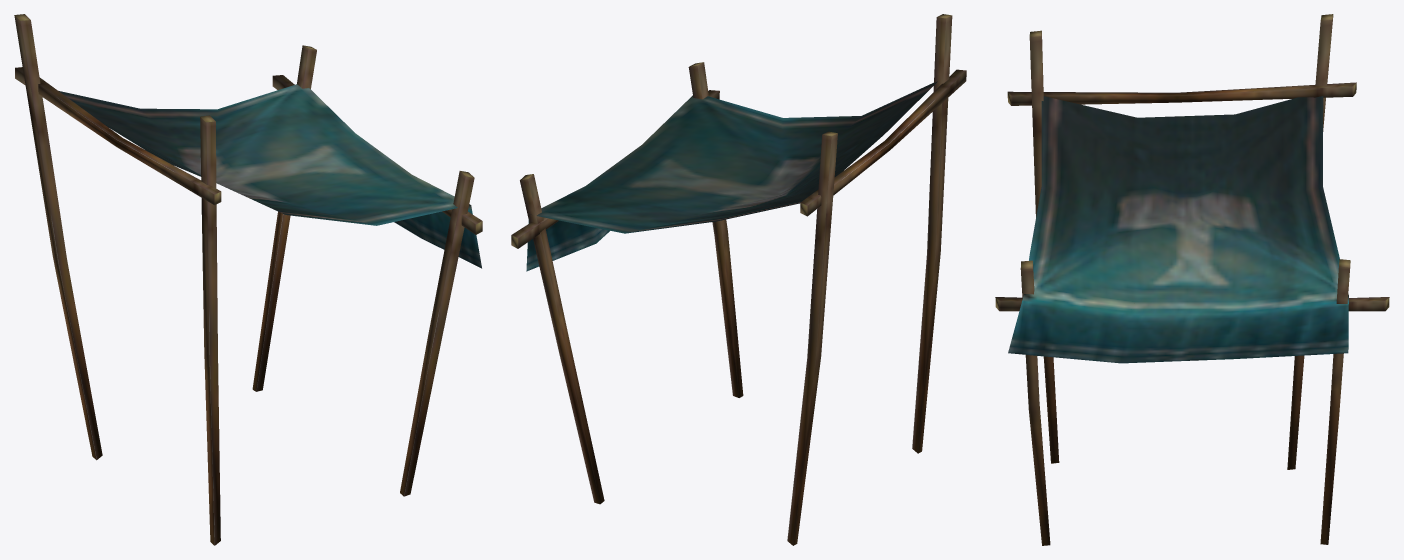
The model's file is ZW_hyhzzwxpzql.FBX.
3 views of the same model, side by side, from view 1: azimuth 30°, elevation 25°; view 2: azimuth 150°, elevation 25°; view 3: azimuth 270°, elevation 25° (orthographic). The views are drawn at different scales.
Parts seen in each view (by area): view 1: ZW_hyhzzwxpzql; view 2: ZW_hyhzzwxpzql; view 3: ZW_hyhzzwxpzql.
Part boxes in pixels (left/top/right/bottom): ZW_hyhzzwxpzql: left=14, top=14, right=482, bottom=545; ZW_hyhzzwxpzql: left=511, top=14, right=966, bottom=545; ZW_hyhzzwxpzql: left=995, top=14, right=1389, bottom=545.
Bounding box in the file's own units: 476 × 658 × 549.
